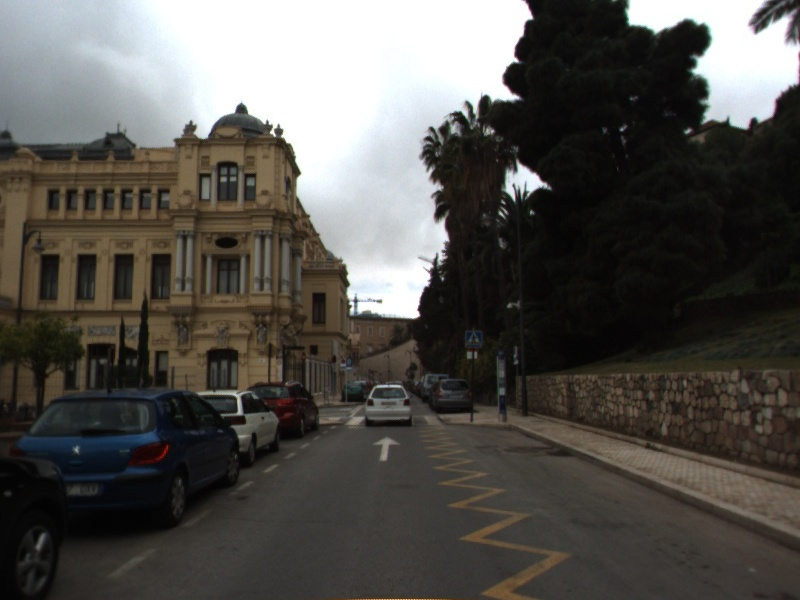STRAIGHT: (371, 435, 403, 463)
